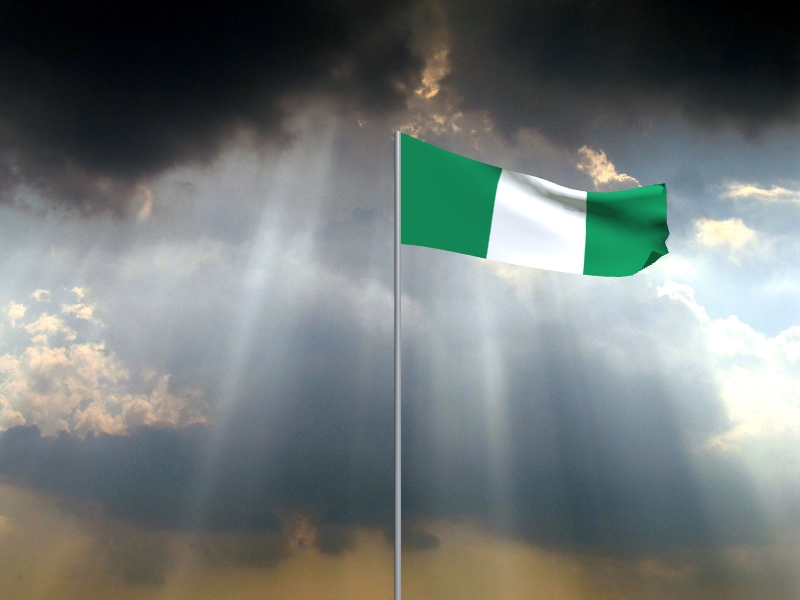ng: (401, 133, 671, 278)
